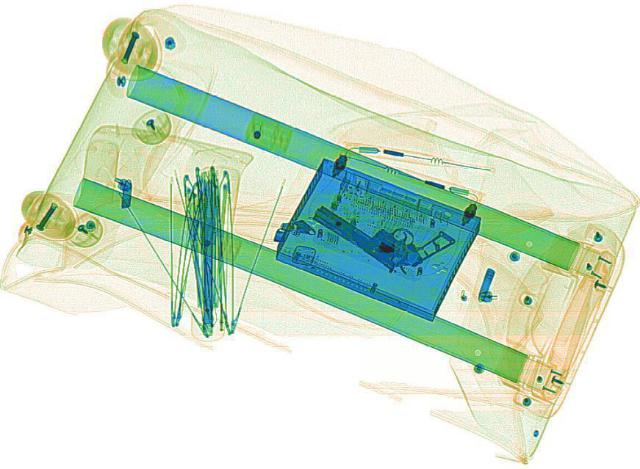Gun: (303, 176, 455, 277)
